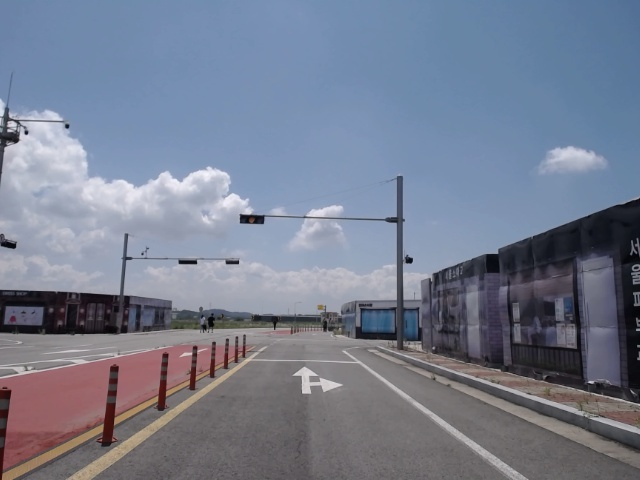orange_3: (240, 215, 265, 225)
